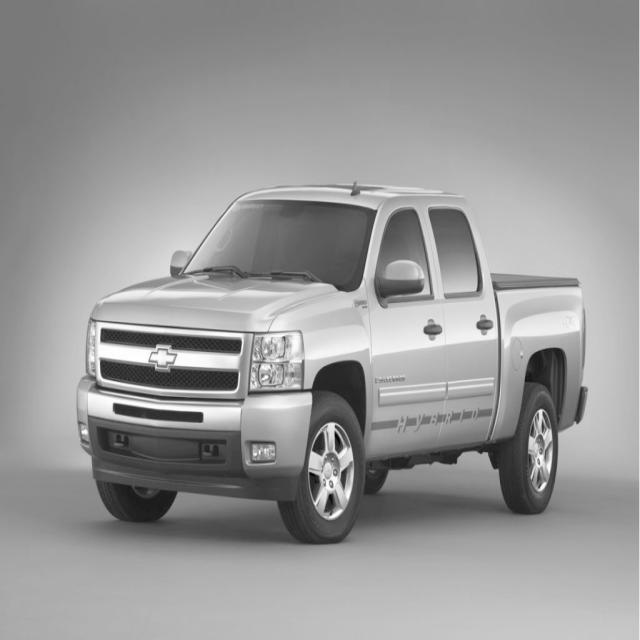car: (76, 180, 588, 545)
